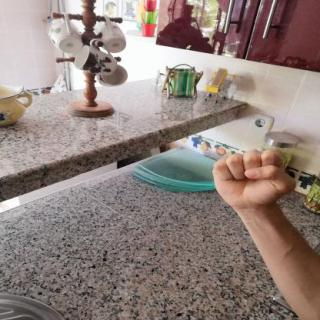SAD: (204, 140, 306, 217)
